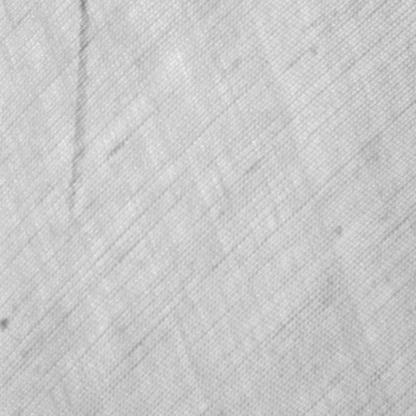oil spot: (65, 0, 92, 220)
